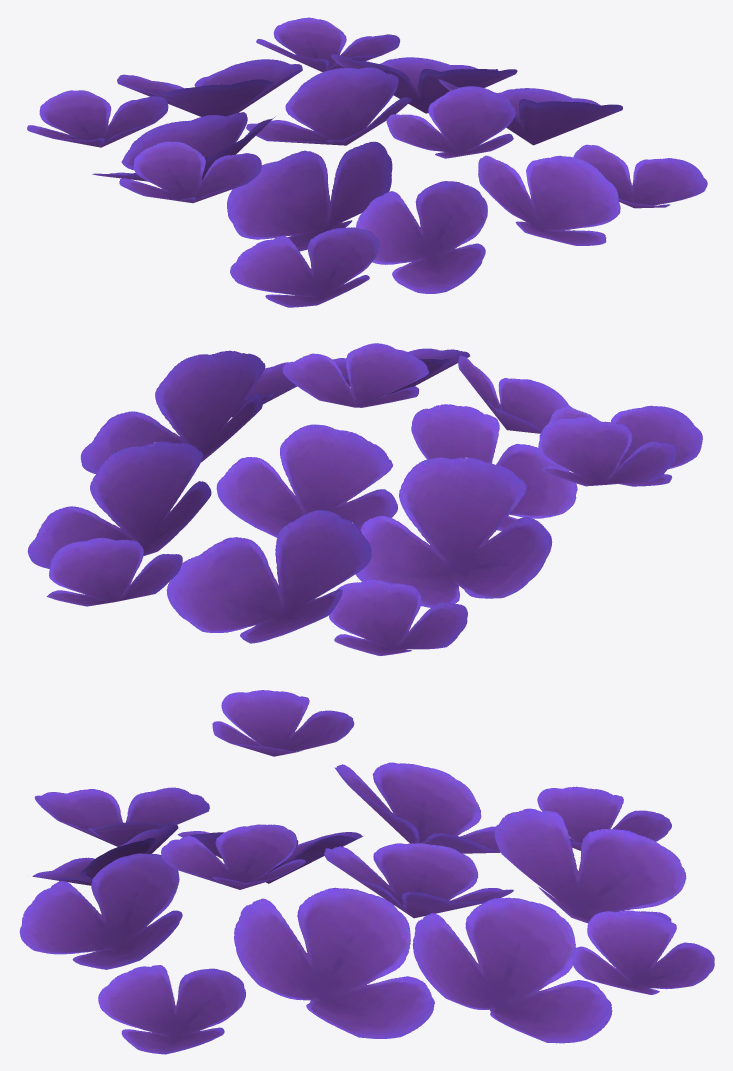
Rendered from Plant_7_Big.gltf.
The picture shows the model from 3 angles, top to bottom: view 1: azimuth 30°, elevation 25°; view 2: azimuth 150°, elevation 25°; view 3: azimuth 270°, elevation 25°; orthographic projection. The views are drawn at different scales.
Parts seen in each view (by area): view 1: Plant_7_Big; view 2: Plant_7_Big; view 3: Plant_7_Big.
Boxes of the visible parts, <box> form: Plant_7_Big: <box>27,17,707,307</box>; Plant_7_Big: <box>27,343,702,655</box>; Plant_7_Big: <box>19,690,714,1054</box>.
Bounding box in the file's own units: 1.31 × 0.2534 × 1.36.
Materials: 1 (1 with a texture image).
